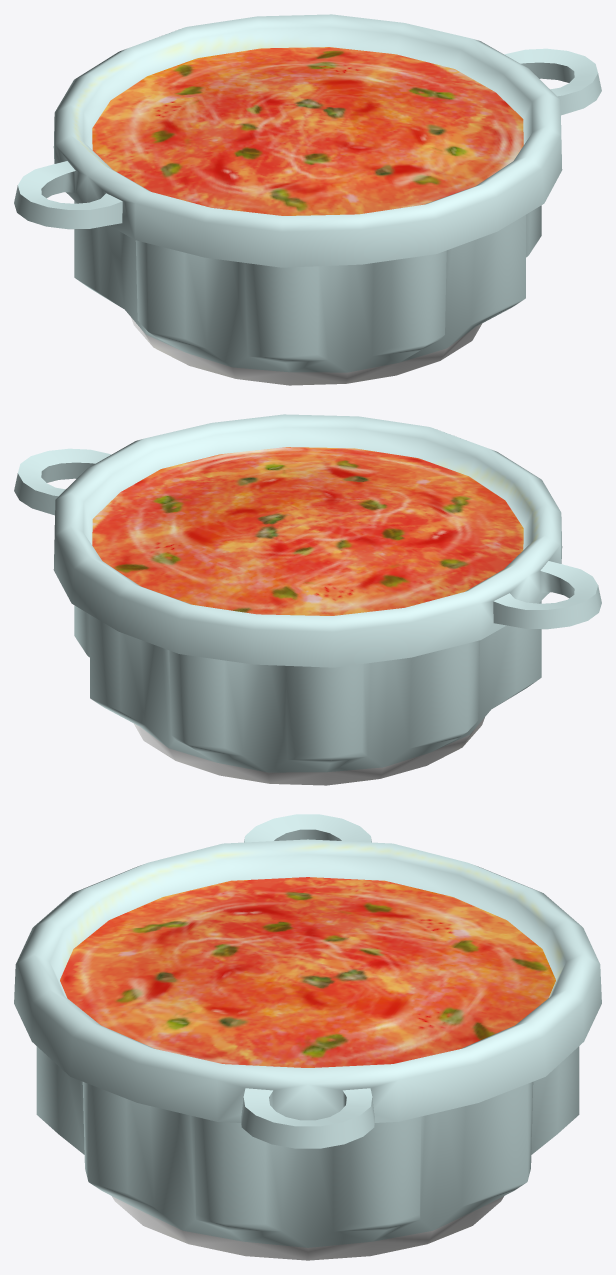
File: soup.fbx
The picture shows the model from 3 angles, top to bottom: view 1: azimuth 30°, elevation 25°; view 2: azimuth 150°, elevation 25°; view 3: azimuth 270°, elevation 25°; orthographic projection. The views are drawn at different scales.
Parts seen in each view (by area): view 1: polySurface5; view 2: polySurface5; view 3: polySurface5.
Part boxes in pixels (left/top/right/bottom): polySurface5: left=14, top=14, right=601, bottom=385; polySurface5: left=14, top=414, right=601, bottom=785; polySurface5: left=14, top=814, right=601, bottom=1260.
Bounding box in the file's own units: 5.03 × 1.65 × 3.96.
